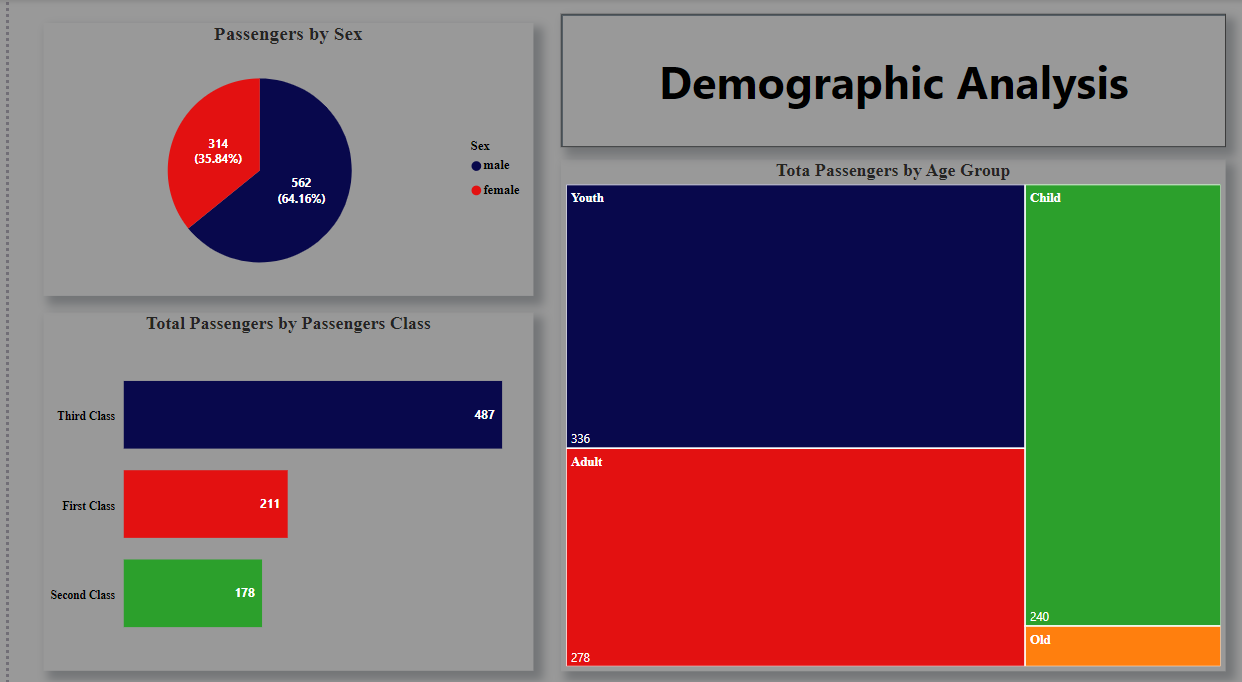

What the dashboard file says about the page in this screenshot:
{"tool":"powerbi","page":{"name":" Demographic Analysis:","canvas":[1280,720],"ordinal":1},"visuals":[{"type":"treemap","title":"Tota  Passengers by Age Group","fields":{"Group":["Titanic - Titanic.Age_G"],"Values":["CountNonNull(Titanic - Titanic.PassengerId)"]},"box":[573.1,166.6,689.9,531.1],"z":0},{"type":"clusteredBarChart","title":"Total Passengers by Passengers Class","fields":{"Category":["Titanic - Titanic.Passengers_Cl"],"Y":["CountNonNull(Titanic - Titanic.PassengerId)"]},"box":[35.9,325,508.4,372.3],"z":1000},{"type":"pieChart","title":"Passengers  by Sex","fields":{"Category":["Titanic - Titanic.Sex"],"Y":["CountNonNull(Titanic - Titanic.PassengerId)"]},"box":[35.9,24.6,508.4,283.5],"z":2000},{"type":"shape","box":[572.6,15.1,689.8,138],"z":3000}]}

Visuals, with their boxes in screenshot pixels (x1, y1, x2, y2), scaled from the page's 1280x720 canvas onto the 1242x682 screenshot:
"Tota  Passengers by Age Group" treemap: BBox(556, 158, 1226, 661)
"Total Passengers by Passengers Class" clusteredBarChart: BBox(35, 308, 528, 660)
"Passengers  by Sex" pieChart: BBox(35, 23, 528, 292)
shape: BBox(556, 14, 1225, 145)
